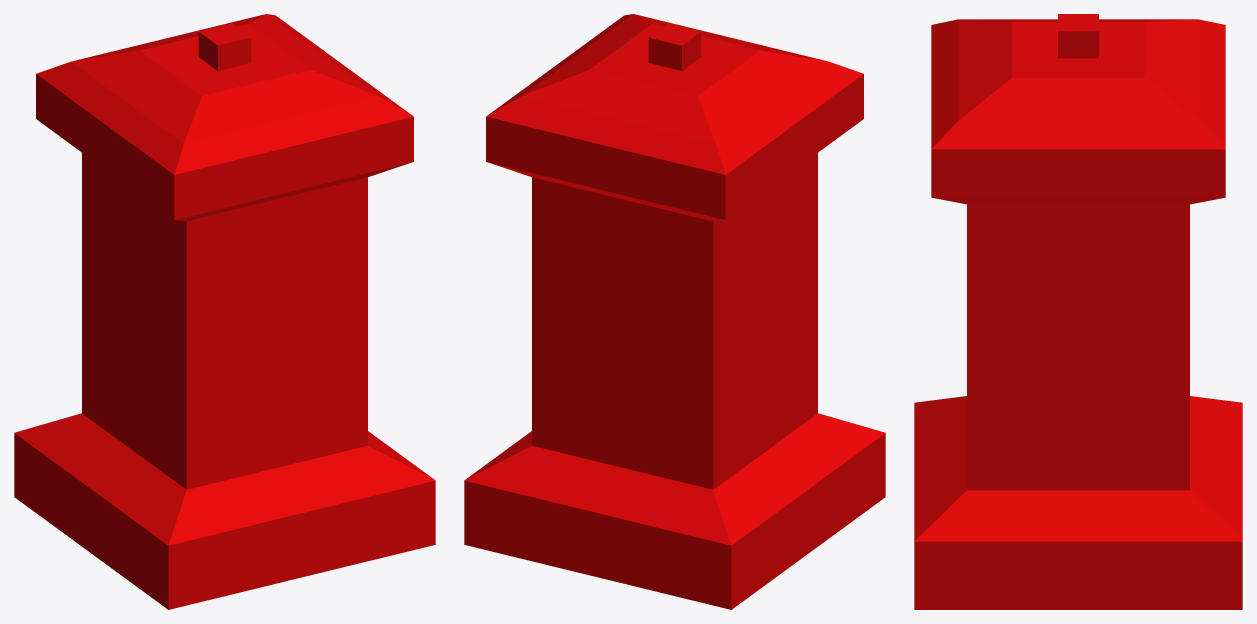
Rendered from firehydrant.fbx.
3 views of the same model, side by side, from view 1: azimuth 30°, elevation 25°; view 2: azimuth 150°, elevation 25°; view 3: azimuth 270°, elevation 25° (orthographic). The views are drawn at different scales.
Visible parts, largest first — view 1: Cube; view 2: Cube; view 3: Cube.
Part boxes in pixels (x1=…): Cube: x1=14, y1=14, x2=435, y2=609; Cube: x1=464, y1=14, x2=885, y2=609; Cube: x1=914, y1=14, x2=1242, y2=609.
Bounding box in the file's own units: 267 × 464 × 267.
